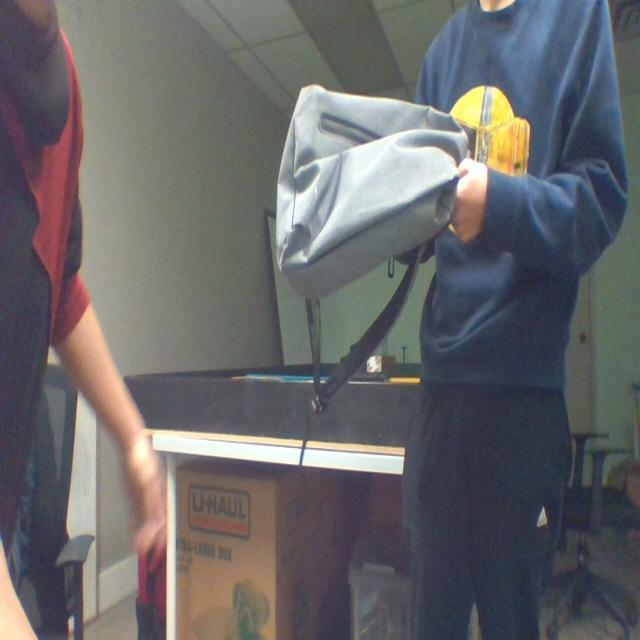Backpacks: (276, 87, 469, 292)
